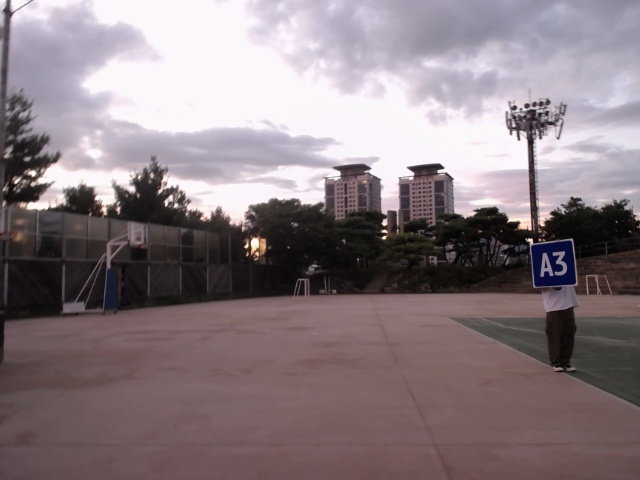delivery_a3: (528, 241, 578, 287)
